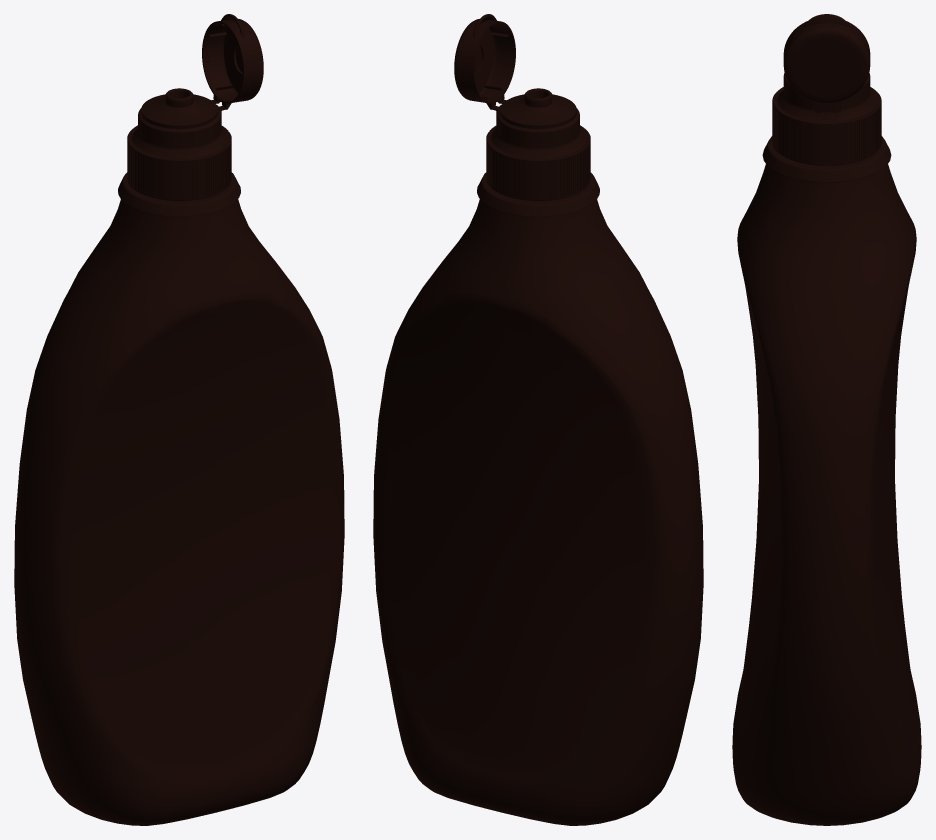
The model's file is chocsyrupbottle_open.FBX.
3 renders of one model, left to right at view 1: azimuth 30°, elevation 25°; view 2: azimuth 150°, elevation 25°; view 3: azimuth 270°, elevation 25°, orthographic. The views are drawn at different scales.
Visible parts, largest first — view 1: bottle; view 2: bottle; view 3: bottle.
Boxes of the visible parts, x1,y1,x2,y2 form: bottle: [14, 14, 344, 825]; bottle: [373, 14, 703, 825]; bottle: [732, 14, 921, 825].
Bounding box in the file's own units: 9.96 × 22.92 × 4.96.
